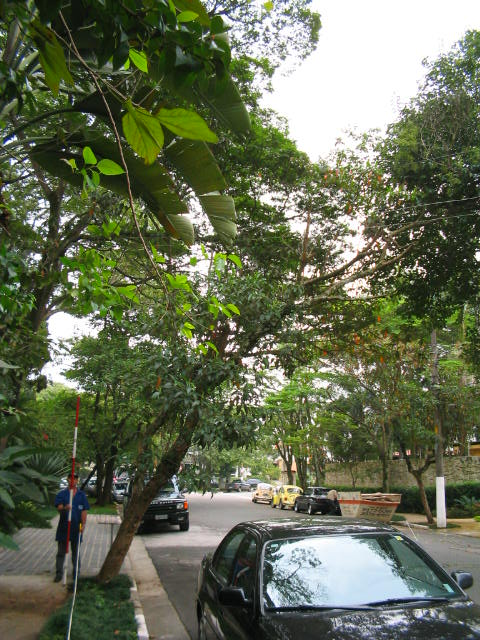stem: (91, 492, 154, 584)
stick: (58, 398, 85, 588)
